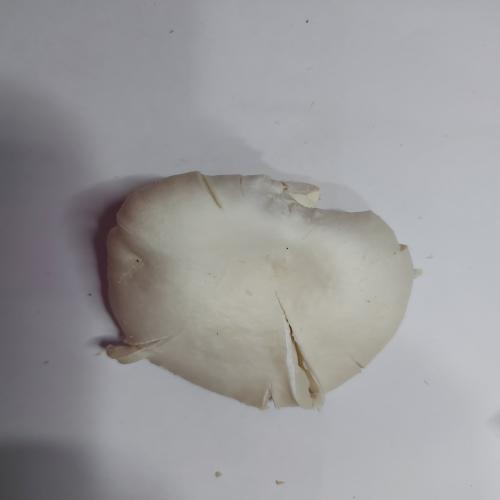Oyster Mushroom: (102, 169, 421, 412)
